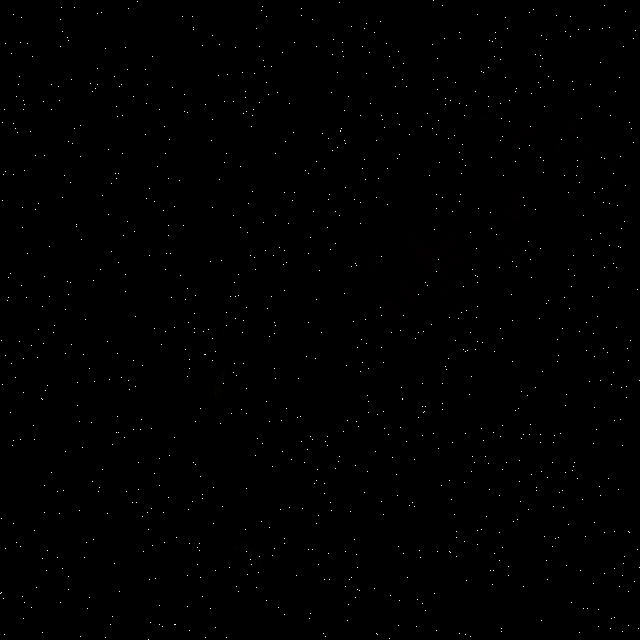European_Green_Crab: (101, 32, 351, 327)
